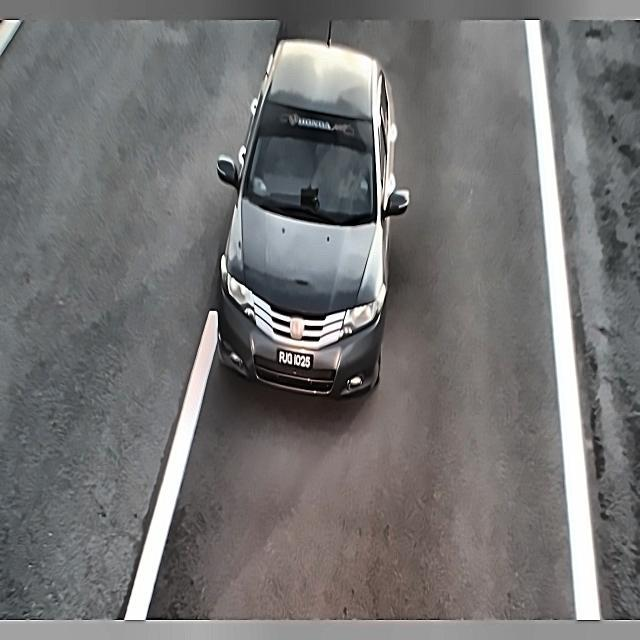car: (271, 335, 318, 381)
